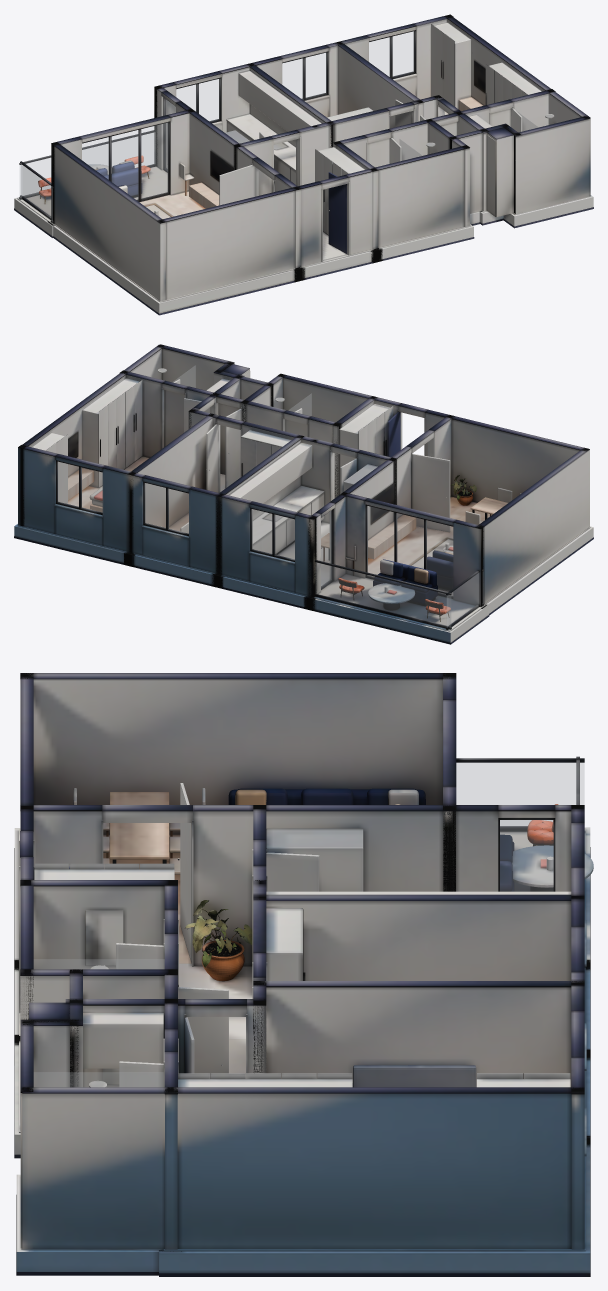
3 renders of one model, top to bottom at view 1: azimuth 30°, elevation 25°; view 2: azimuth 150°, elevation 25°; view 3: azimuth 270°, elevation 25°, orthographic. The views are drawn at different scales.
Parts seen in each view (by area): view 1: plan, glass0_m, railg0_m, glass3_m, glass4_m, glass2_m, railg3_m; view 2: plan, glass0_m, railg0_m, glass4_m, glass3_m, glass2_m, railg3_m, glass1_m; view 3: plan, railg3_m, glass1_m, sg.001_m, sg_m.
Boxes of the visible parts, x1,y1,x2,y2 form: plan: (14, 14, 593, 315); glass0_m: (82, 123, 168, 199); railg0_m: (20, 132, 155, 196); glass3_m: (282, 53, 326, 98); glass4_m: (369, 31, 413, 76); glass2_m: (176, 79, 219, 121); railg3_m: (21, 165, 50, 216); plan: (14, 344, 593, 644); glass0_m: (367, 506, 452, 595); railg0_m: (315, 562, 450, 626); glass4_m: (57, 462, 102, 512); glass3_m: (145, 483, 188, 533); glass2_m: (252, 509, 294, 559); railg3_m: (447, 573, 478, 626); glass1_m: (321, 510, 331, 586); plan: (14, 673, 593, 1276); railg3_m: (456, 763, 584, 826); glass1_m: (500, 820, 553, 891); sg.001_m: (34, 1072, 163, 1086); sg_m: (34, 959, 164, 968).
Bounding box in the file's own units: 13.26 × 2.62 × 7.61.
2 materials, 1 textured.
